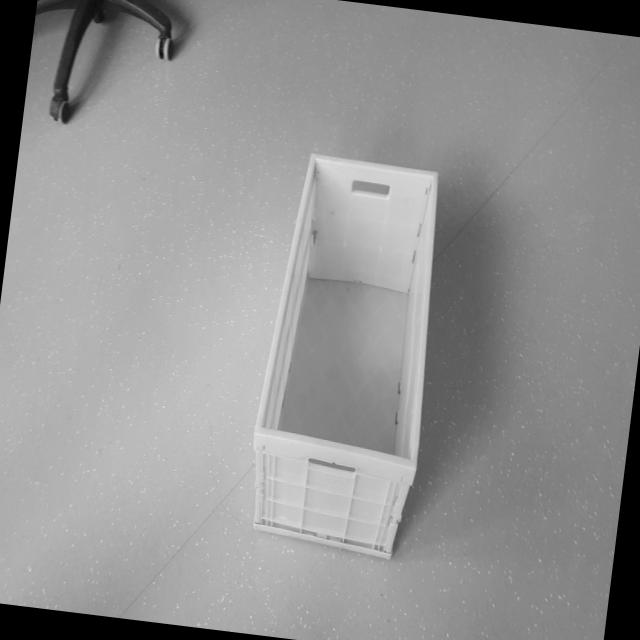box: (236, 144, 462, 581)
